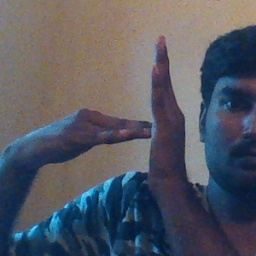Z: (92, 33, 193, 189)
